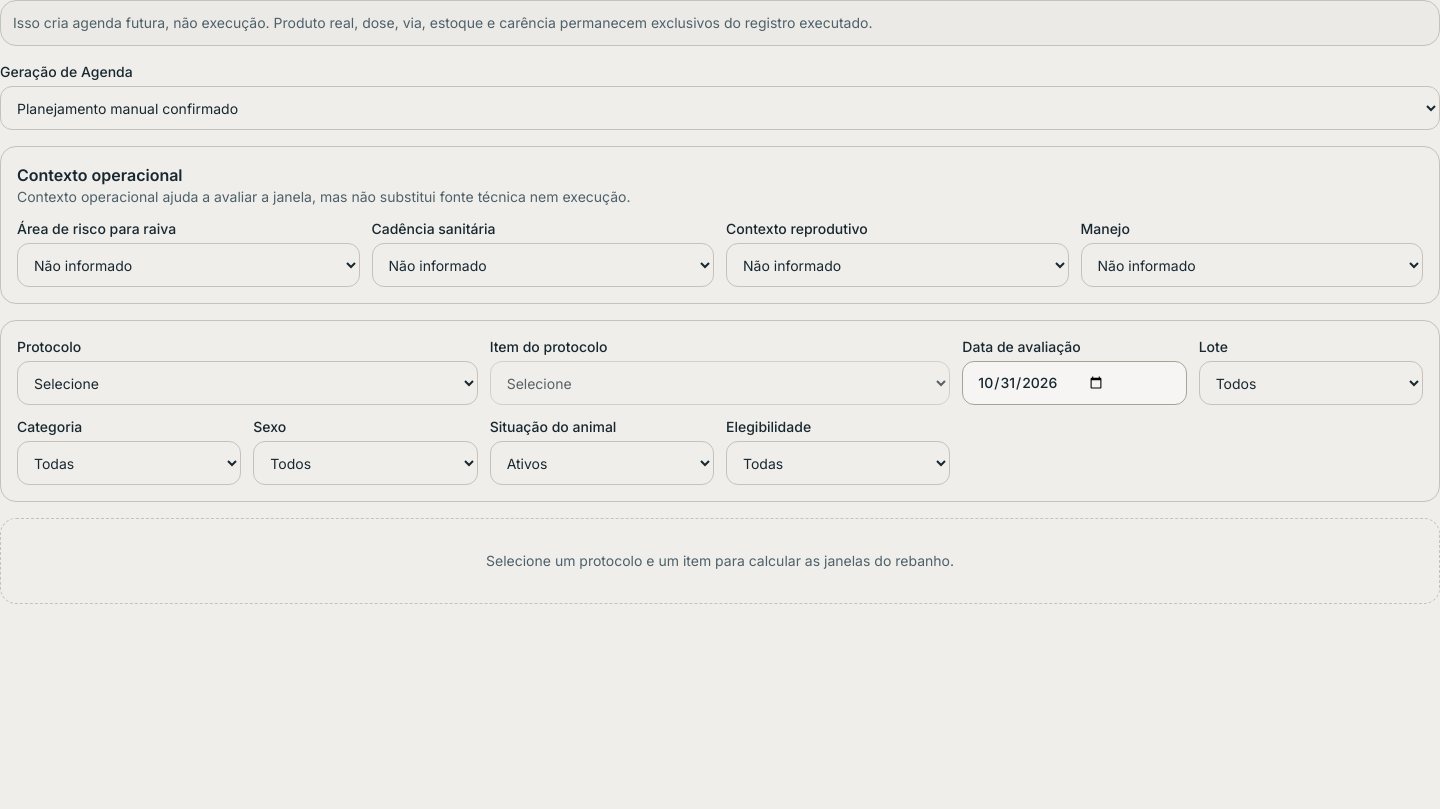
SanitaryProtocolWindowPanelV2 › seleção de geração condicional exige autorização individual sem promover catálogo
The width and height of the screenshot is (1440, 809).
Select "Brucelose B19" in the dropdown named "Selecionar protocolo". click: [247, 383]
box: x1=17 y1=361 x2=478 y2=405
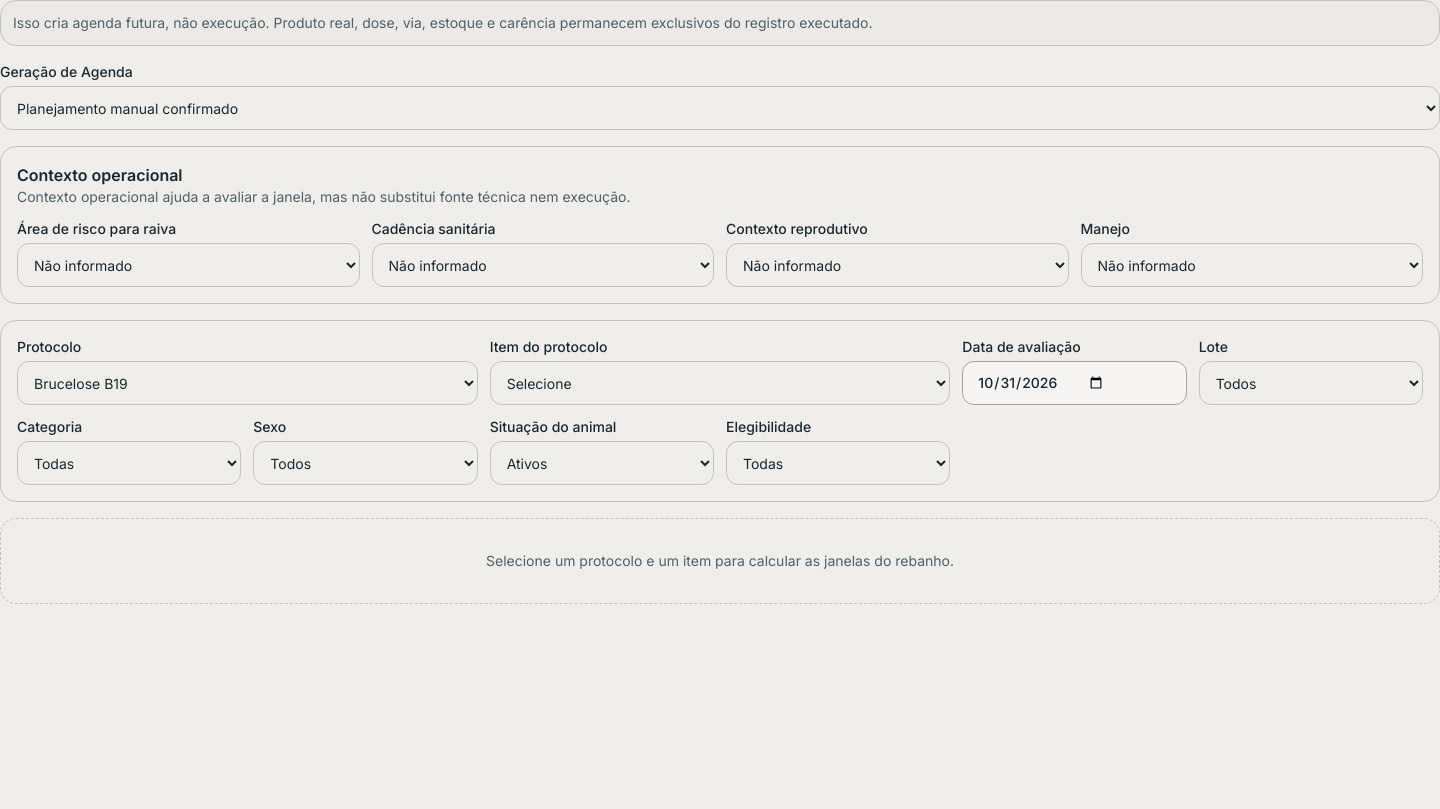
Select "B19 — fêmeas de 3 a 8 meses" in the dropdown named "Selecionar item do protocolo". click: [720, 383]
box: x1=490 y1=361 x2=950 y2=405
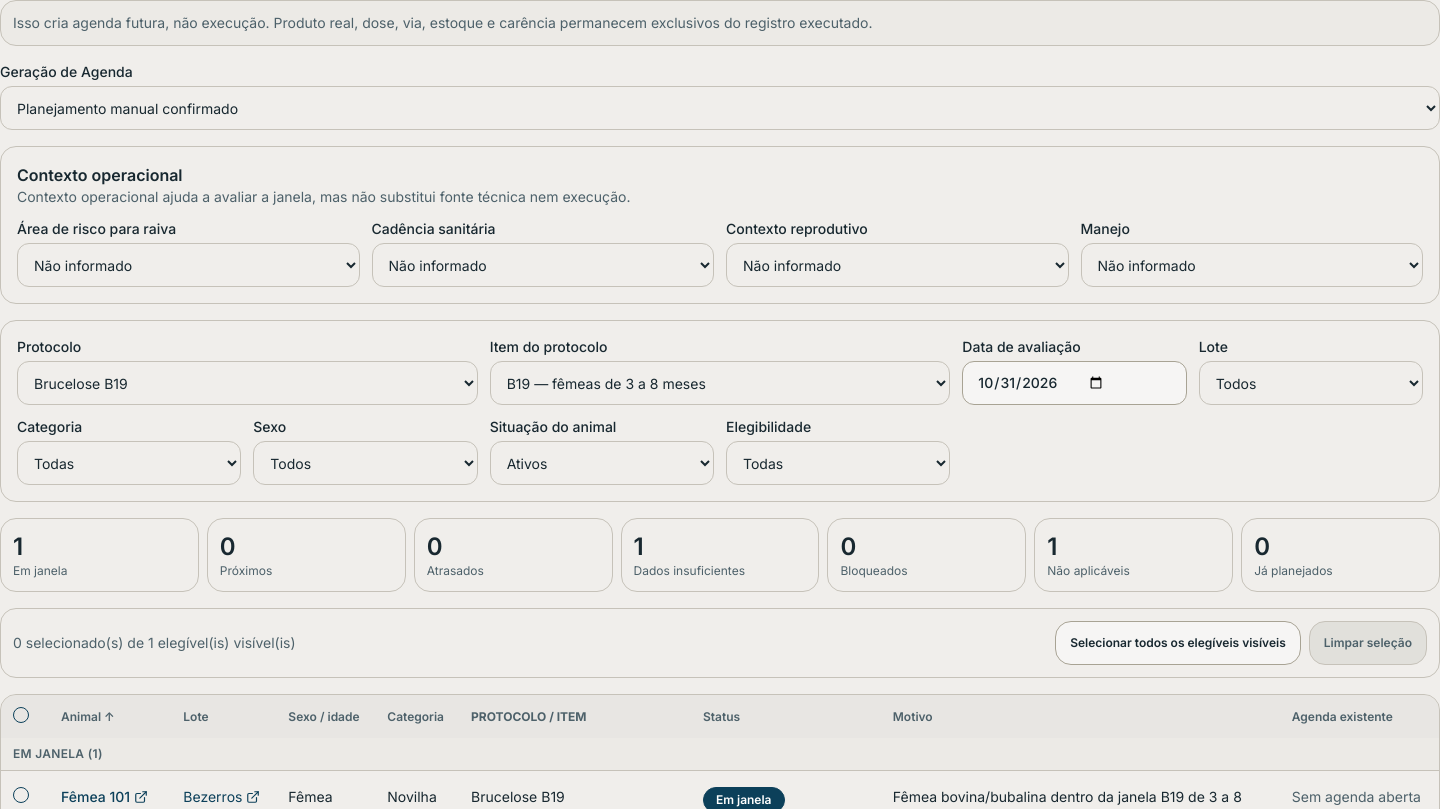
Type "2026-07-04" into the date field labelled "Data de avaliação". click: [1074, 383]
box: x1=962 y1=361 x2=1187 y2=405
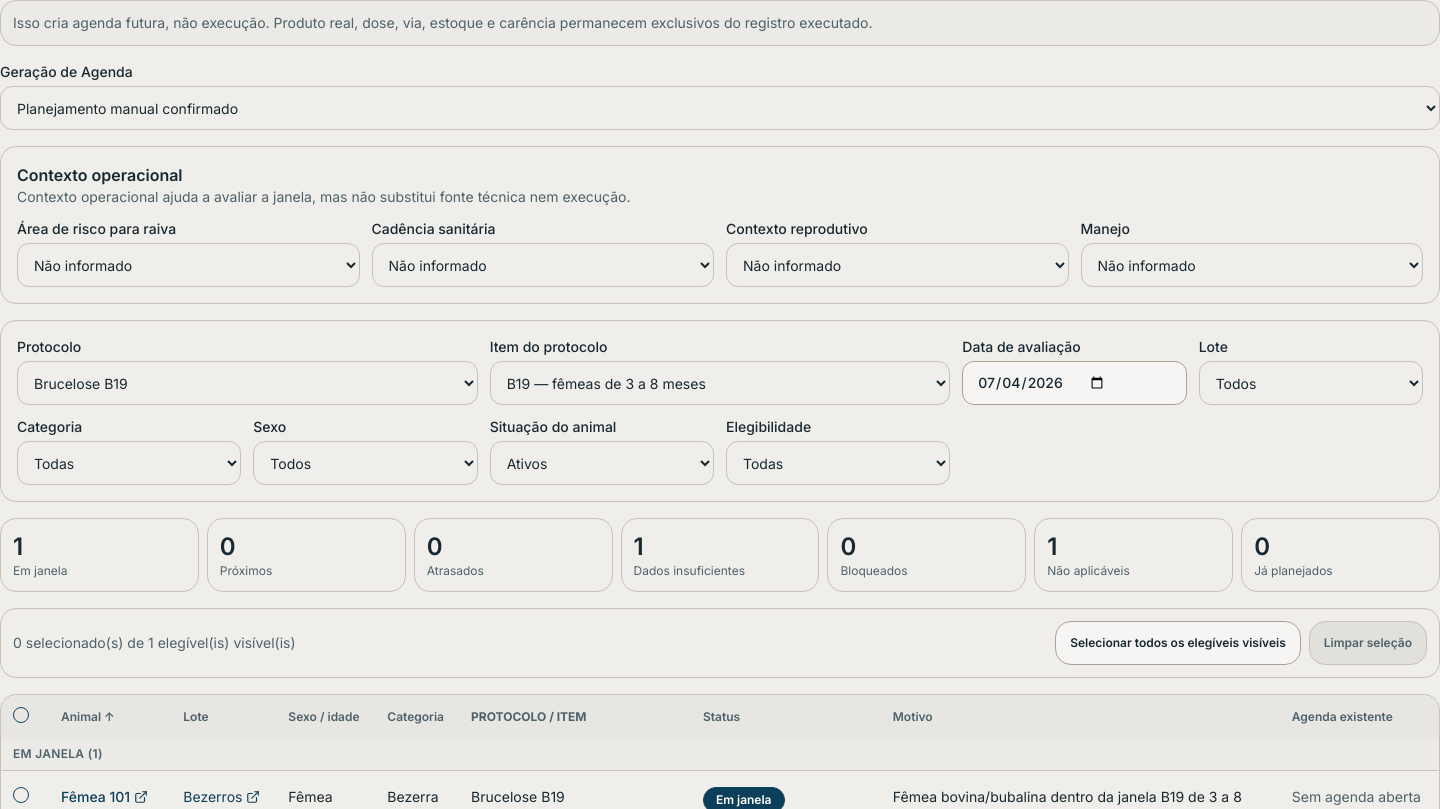
Expected: the checkbox named "Selecionar Fêmea 101" is enabled, x1=13 y1=787 x2=29 y2=803
Select "Geração condicional por regra autorizada" in the dropdown labelled "Geração de Agenda". click: [720, 108]
box: x1=0 y1=86 x2=1439 y2=130
(page scrolled)
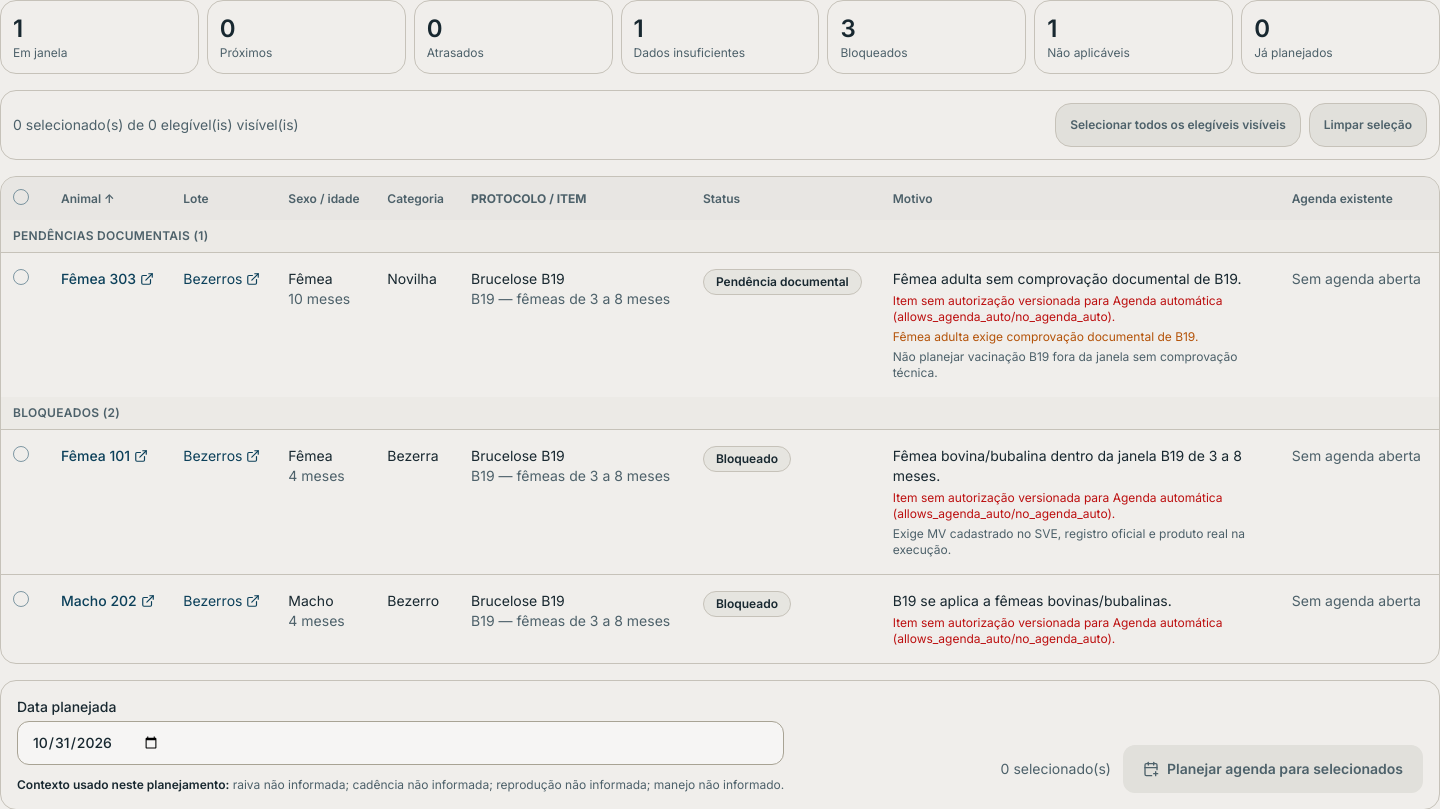
Expected: the checkbox named "Selecionar Fêmea 101" is disabled, x1=13 y1=446 x2=29 y2=462
